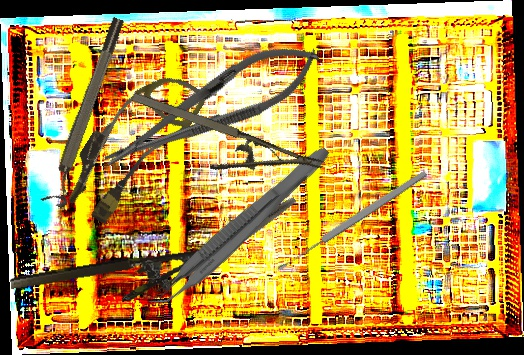Cannula: (55, 54, 209, 235)
Dressing Forceps: (152, 192, 300, 299)
Fixation Ring: (39, 15, 136, 210)
Needle Holder: (92, 27, 330, 187), (119, 86, 326, 208), (9, 241, 236, 319)
Surgical Spoon: (274, 168, 430, 274)
Tissue Forceps: (143, 134, 334, 319)
